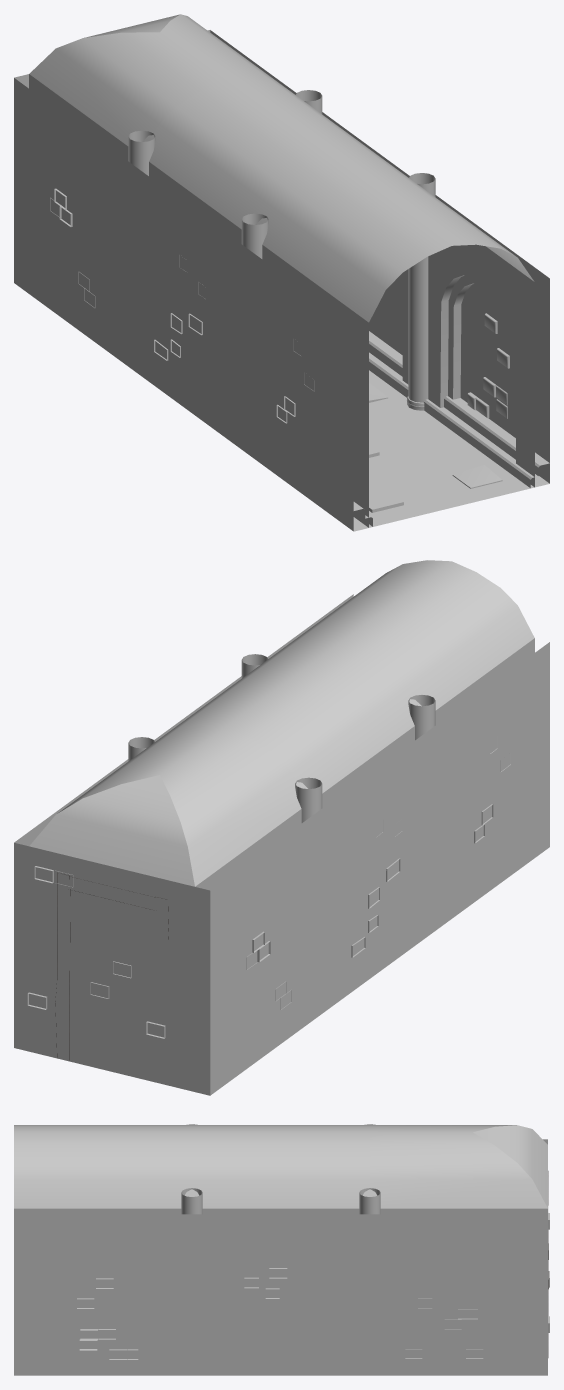
The model's file is Env_Map01_DoorStreet01.fbx.
3 renders of one model, top to bottom at view 1: azimuth 30°, elevation 25°; view 2: azimuth 150°, elevation 25°; view 3: azimuth 270°, elevation 25°, orthographic. The views are drawn at different scales.
Parts seen in each view (by area): view 1: Env_Map01_DoorStreet01; view 2: Env_Map01_DoorStreet01; view 3: Env_Map01_DoorStreet01.
Boxes of the visible parts, left/top/right/bottom form: Env_Map01_DoorStreet01: left=14, top=14, right=549, bottom=531; Env_Map01_DoorStreet01: left=14, top=560, right=549, bottom=1095; Env_Map01_DoorStreet01: left=14, top=1124, right=549, bottom=1375.
Size of the model in its own units: 206 by 255 by 602.
